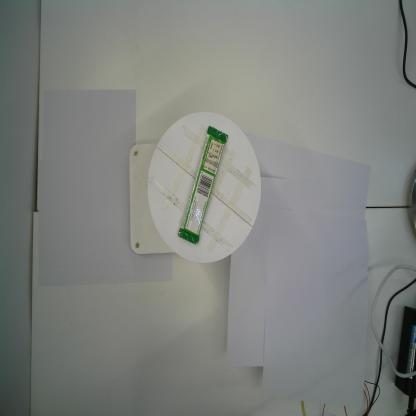Chocolate: (175, 123, 230, 248)
